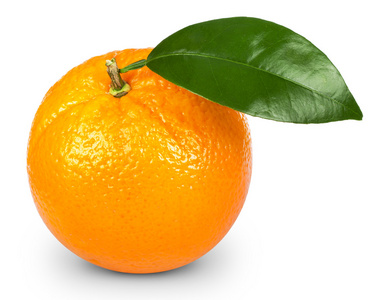orange: (26, 47, 252, 274)
